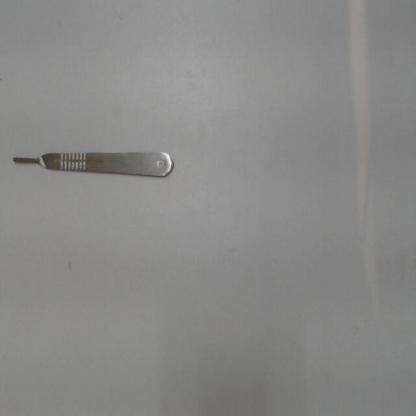No.3 BP Handle: (3, 144, 178, 184)
